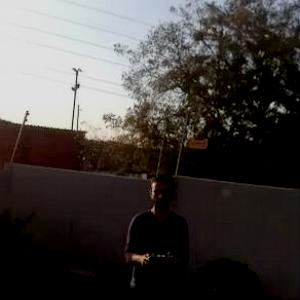follow: (119, 167, 191, 299)
